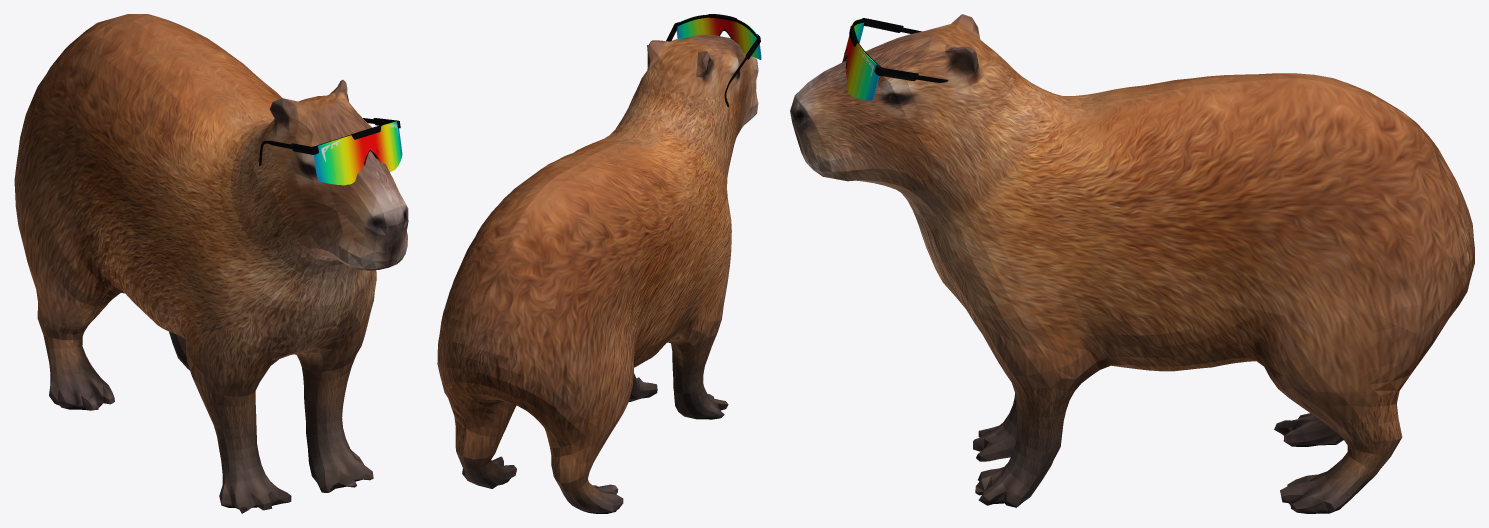
File: capybara.glb
3 renders of one model, left to right at view 1: azimuth 30°, elevation 25°; view 2: azimuth 150°, elevation 25°; view 3: azimuth 270°, elevation 25°, orthographic. The views are drawn at different scales.
Parts seen in each view (by area): view 1: Capybara_mesh, the thing_0; view 2: Capybara_mesh, the thing_0; view 3: Capybara_mesh, the thing_0.
Boxes of the visible parts, x1,y1,x2,y2 form: Capybara_mesh: (14, 14, 408, 513); the thing_0: (259, 118, 402, 185); Capybara_mesh: (437, 34, 758, 513); the thing_0: (666, 14, 761, 107); Capybara_mesh: (790, 14, 1474, 513); the thing_0: (842, 18, 948, 100).
Size of the model in its own units: 0.3071 by 0.6295 by 0.8801.
4 materials, 3 textured.
